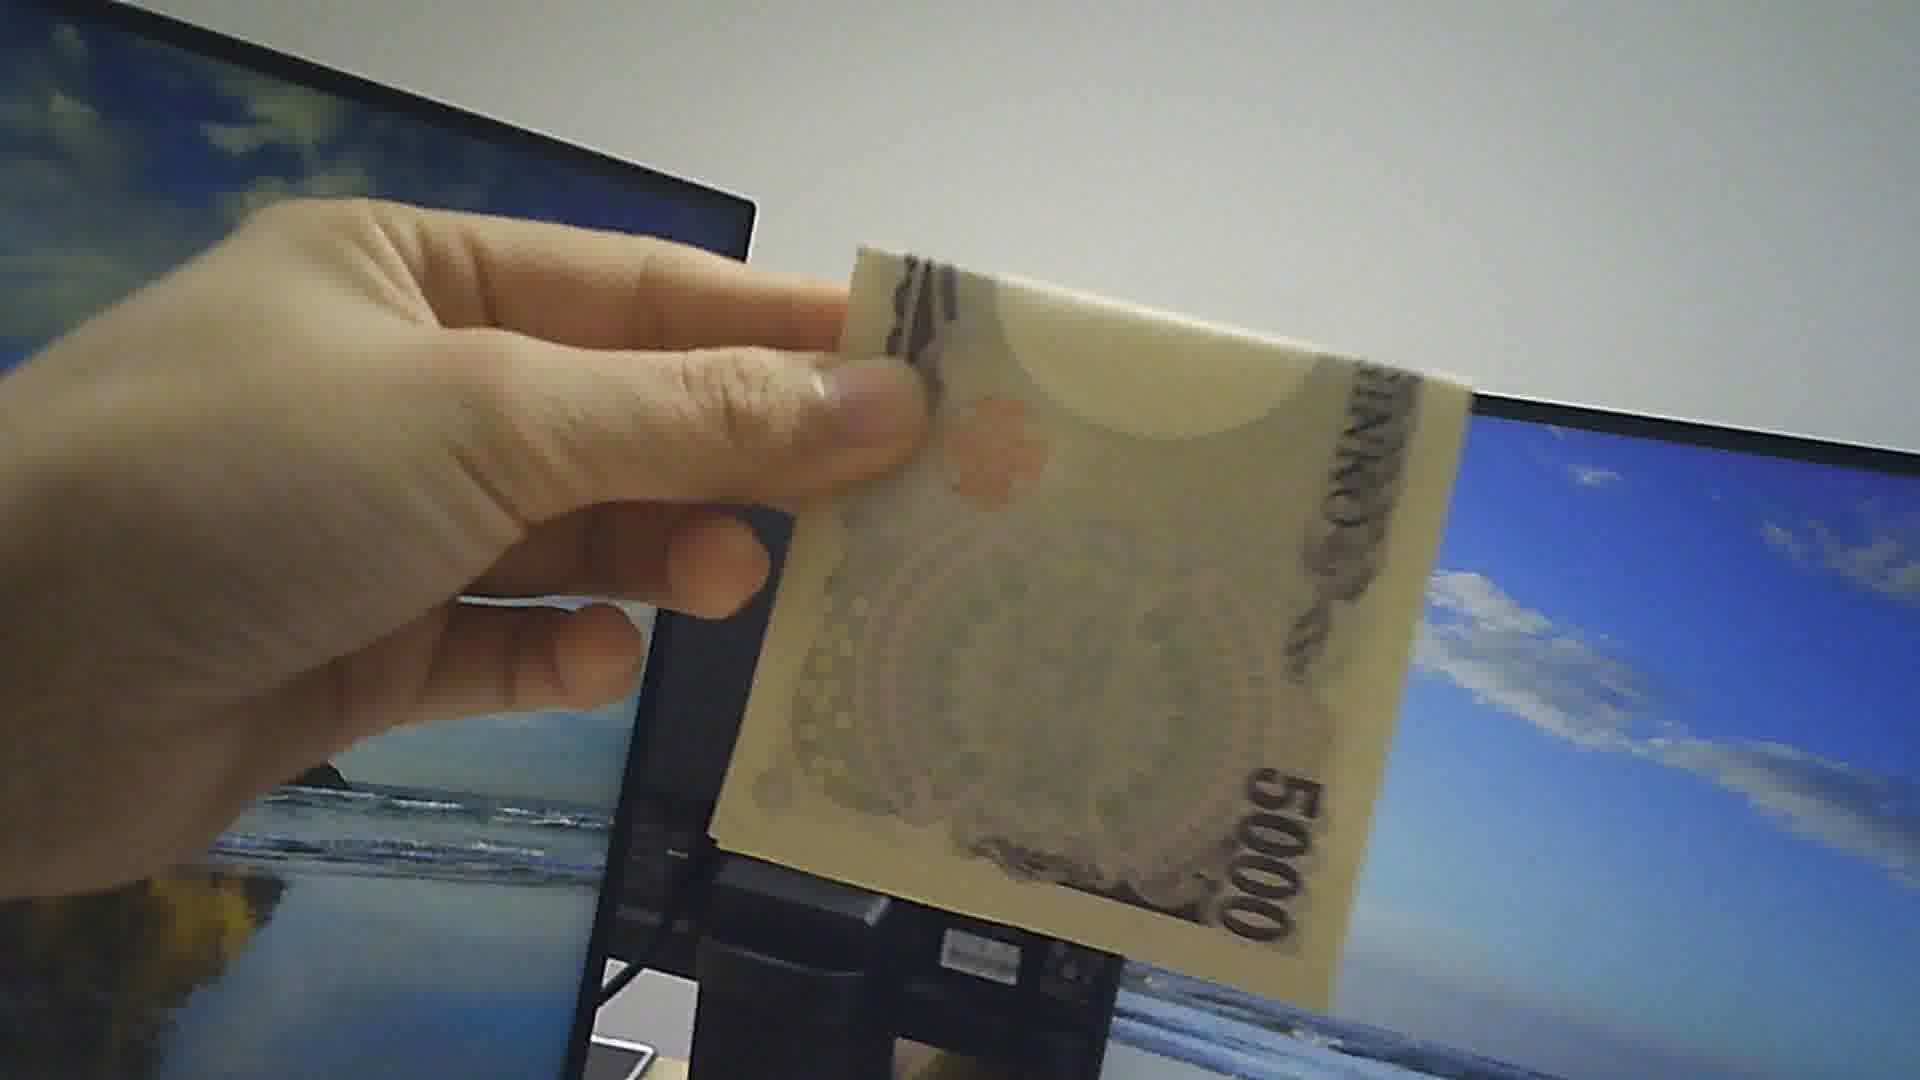5,000 Yen: (711, 233, 1470, 1007)
